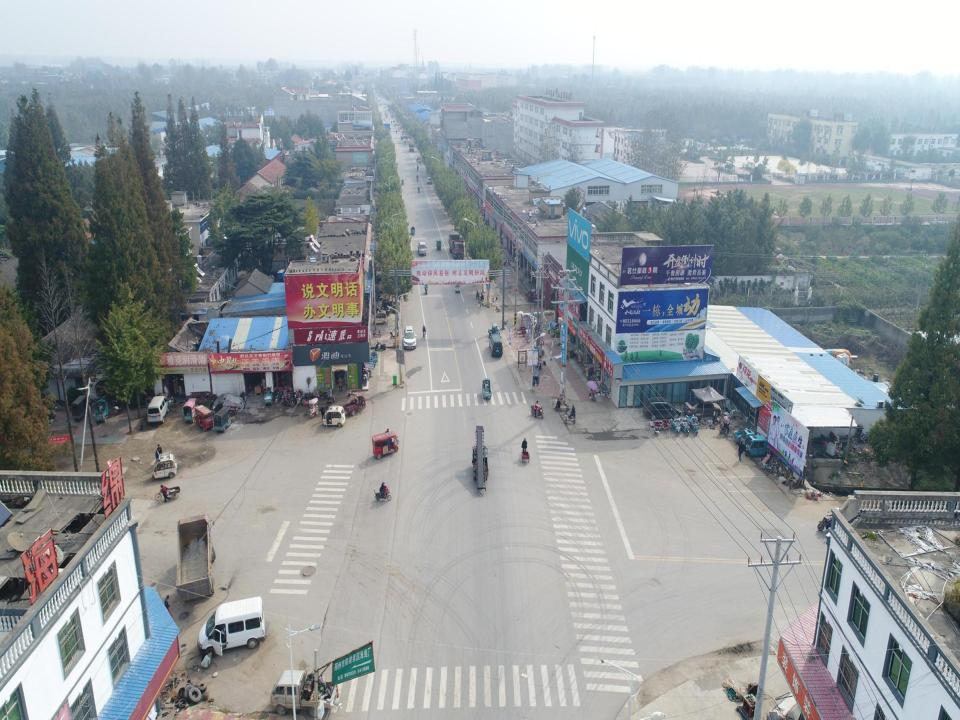car: (642, 396, 682, 420), (683, 396, 721, 417), (402, 324, 418, 349), (426, 176, 433, 184)
truck: (174, 514, 217, 598), (273, 665, 338, 716), (447, 233, 467, 261), (416, 240, 427, 256), (408, 142, 414, 152)
van: (196, 595, 266, 658), (145, 395, 169, 425), (488, 333, 503, 359), (385, 113, 388, 117)
